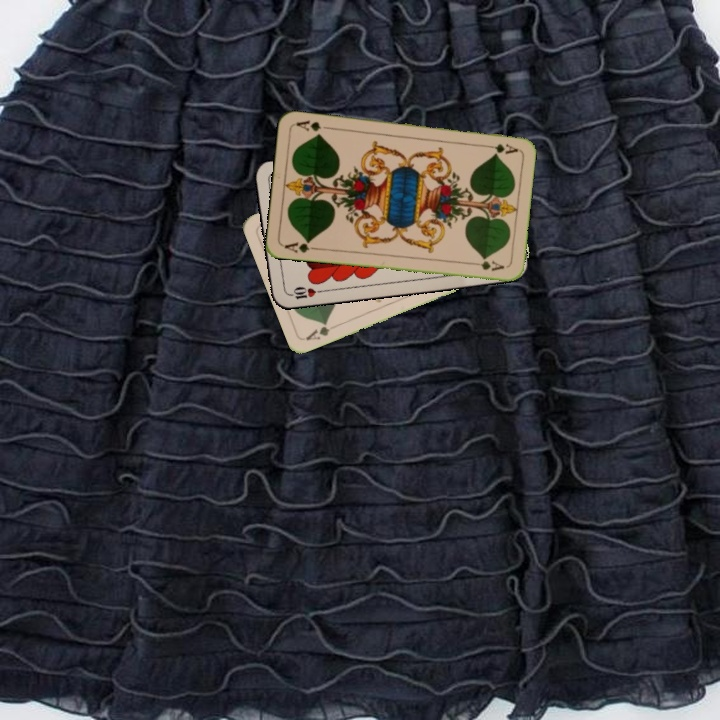GA: (301, 318, 332, 343), (280, 237, 321, 255), (480, 139, 520, 156)
H10: (284, 282, 325, 302)
